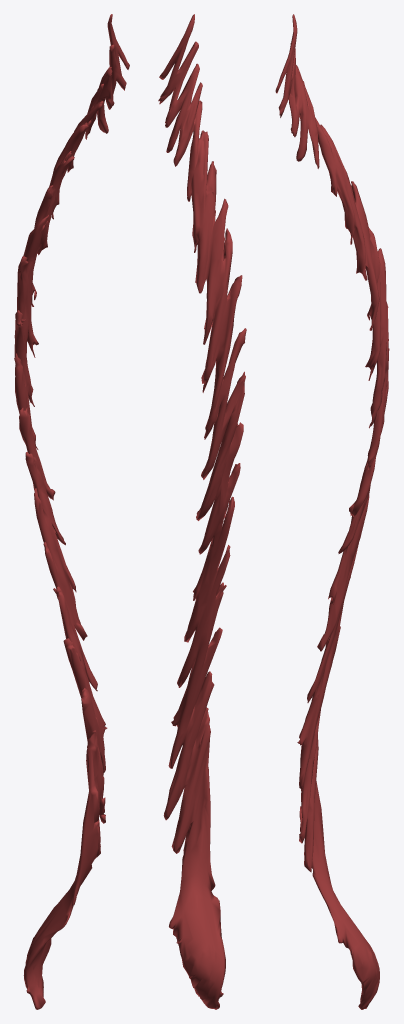
The model's file is rotatores-l.glb.
3 renders of one model, left to right at view 1: azimuth 90°, elevation 25°; view 2: azimuth 210°, elevation 25°; view 3: azimuth 270°, elevation 25°, orthographic. The views are drawn at different scales.
Visible parts, largest first — view 1: Rotatores.l; view 2: Rotatores.l; view 3: Rotatores.l.
Part boxes in pixels (x1=…): Rotatores.l: x1=14, y1=14, x2=129, y2=1009; Rotatores.l: x1=158, y1=14, x2=246, y2=1009; Rotatores.l: x1=275, y1=14, x2=389, y2=1009.
Bounding box in the file's own units: 0.0382 × 0.6354 × 0.0665.
